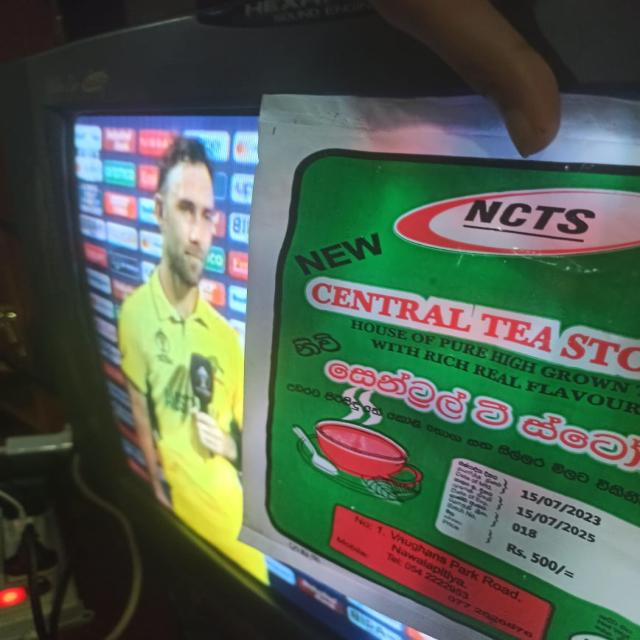Central Tea: (270, 151, 639, 640)
